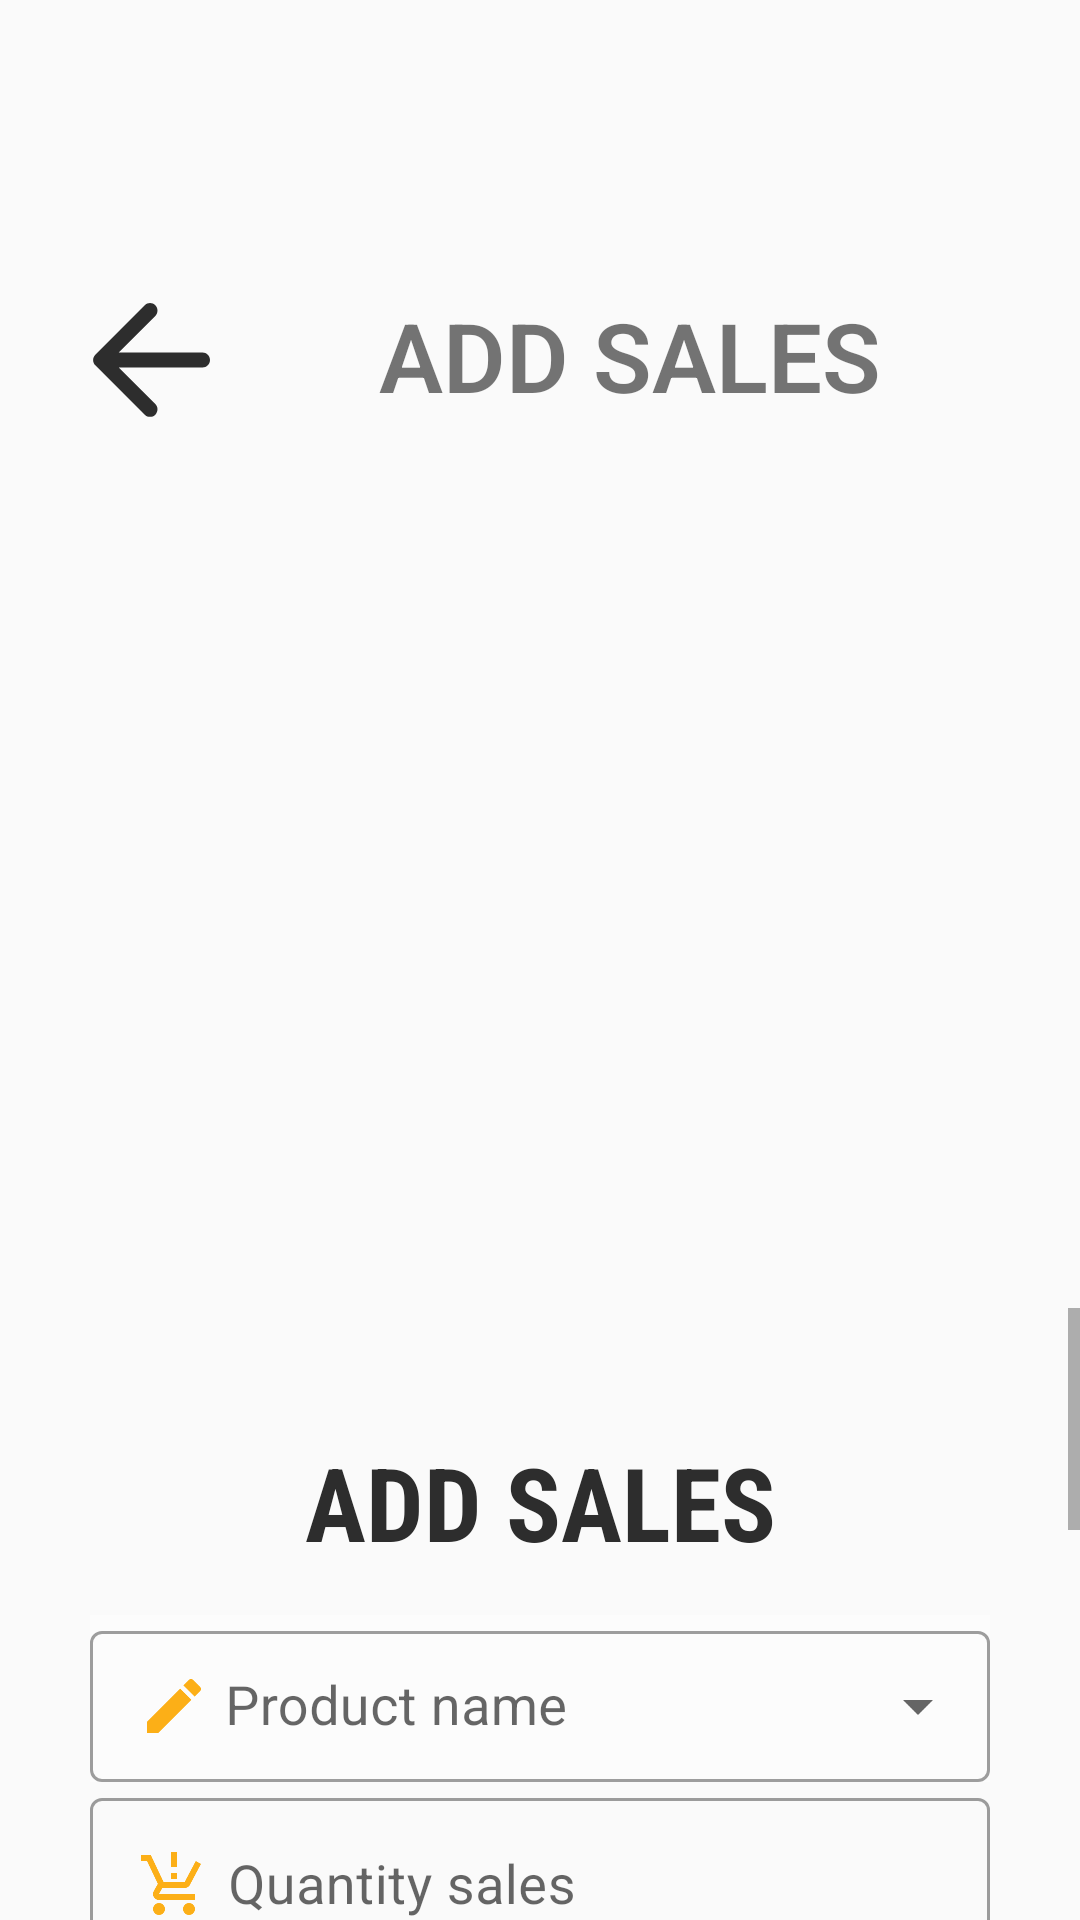

Icon click points for this 1080 x 1920 phone screenshot, format [x,y]:
arrow back: [151,360]
